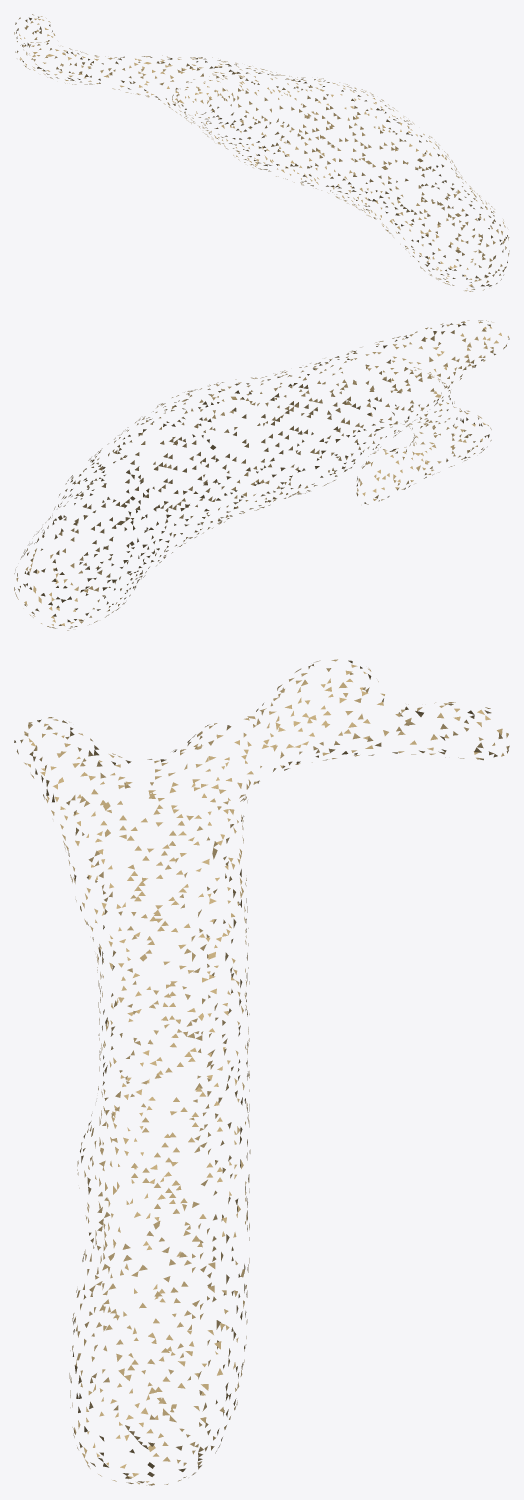
File: morph_007.glb
3 renders of one model, top to bottom at view 1: azimuth 30°, elevation 25°; view 2: azimuth 150°, elevation 25°; view 3: azimuth 270°, elevation 25°, orthographic. The views are drawn at different scales.
Bounding box in the file's own units: 83.08 × 55.24 × 48.93.
